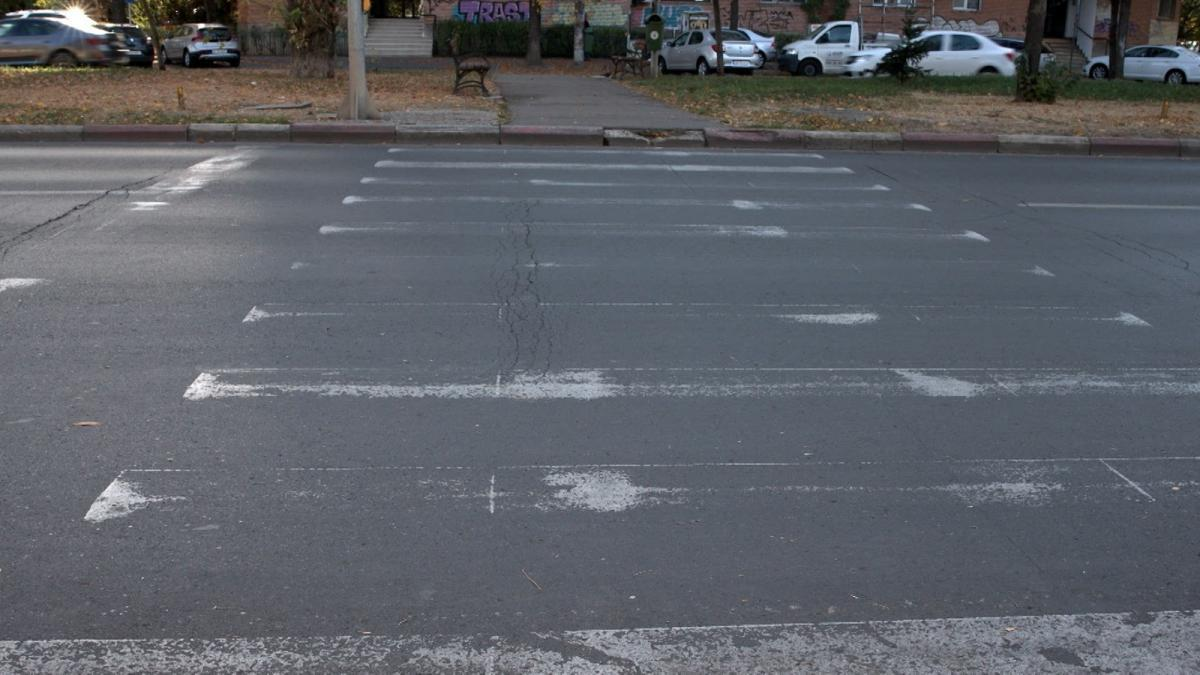faded_road_lines: (0, 121, 1200, 675)
